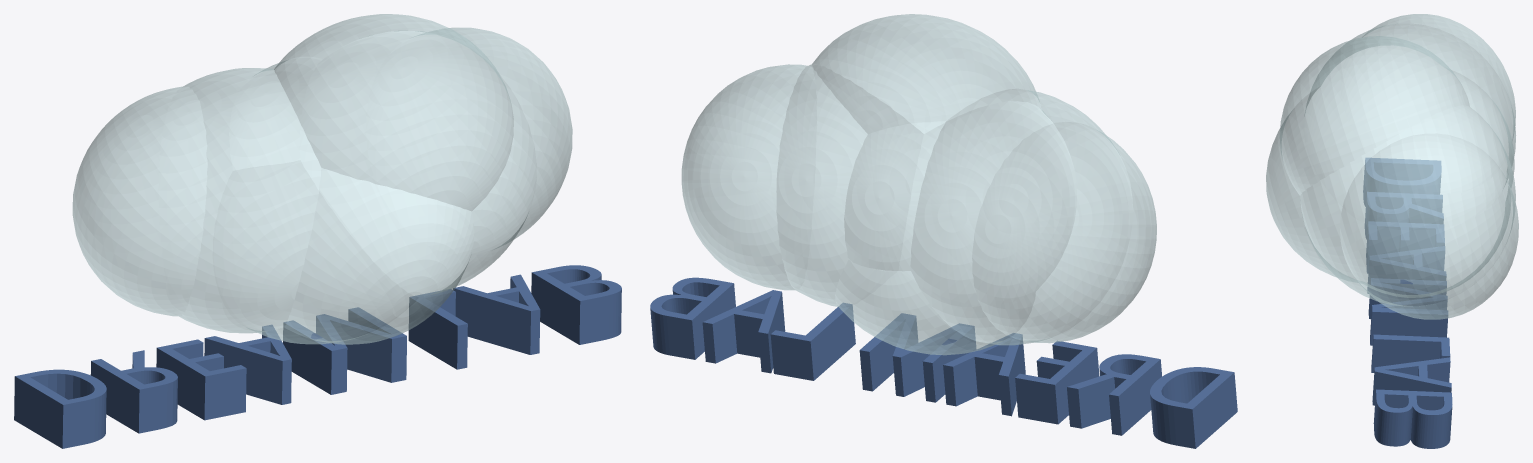
The model's file is tinker.gltf.
3 renders of one model, left to right at view 1: azimuth 30°, elevation 25°; view 2: azimuth 150°, elevation 25°; view 3: azimuth 270°, elevation 25°, orthographic. The views are drawn at different scales.
Parts seen in each view (by area): view 1: g group_0_-1716459281, g group_1_1650274; view 2: g group_0_-1716459281, g group_1_1650274; view 3: g group_0_-1716459281, g group_1_1650274.
Boxes of the visible parts, left/top/right/bottom form: g group_0_-1716459281: left=72, top=14, right=572, bottom=344; g group_1_1650274: left=14, top=265, right=621, bottom=448; g group_0_-1716459281: left=681, top=14, right=1156, bottom=355; g group_1_1650274: left=650, top=277, right=1237, bottom=448; g group_0_-1716459281: left=1266, top=14, right=1518, bottom=319; g group_1_1650274: left=1363, top=158, right=1452, bottom=448.
Bounding box in the file's own units: 142 × 87.26 × 65.94.
